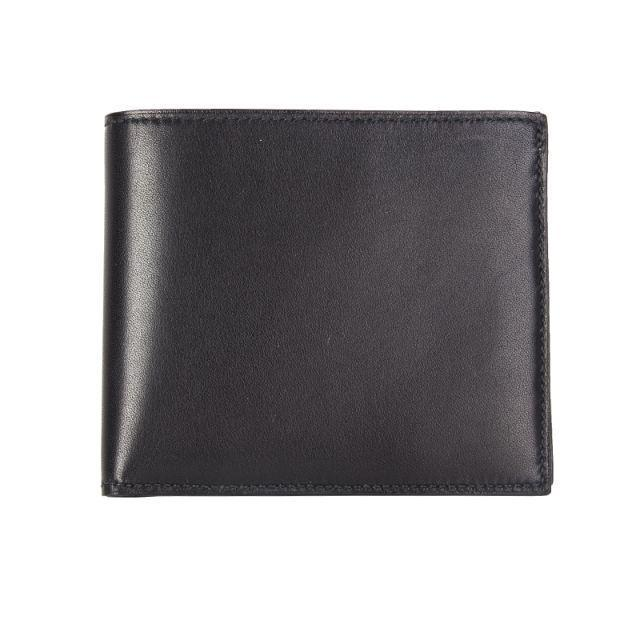wallet: (99, 102, 557, 506)
